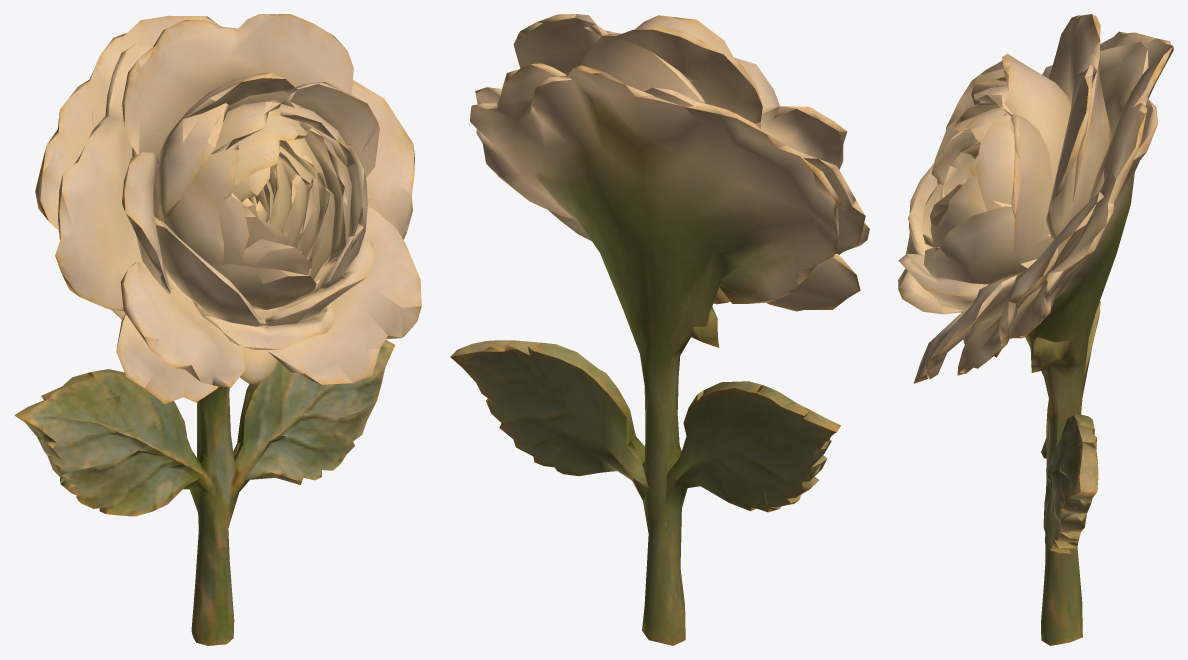
File: white_rose.glb
3 renders of one model, left to right at view 1: azimuth 30°, elevation 25°; view 2: azimuth 150°, elevation 25°; view 3: azimuth 270°, elevation 25°, orthographic. The views are drawn at different scales.
Parts seen in each view (by area): view 1: white_rose; view 2: white_rose; view 3: white_rose.
Boxes of the visible parts, x1,y1,x2,y2 form: white_rose: [14, 14, 421, 645]; white_rose: [450, 14, 869, 645]; white_rose: [898, 14, 1173, 645].
Bounding box in the file's own units: 0.3766 × 0.5856 × 0.2386.
1 material, 1 textured.
